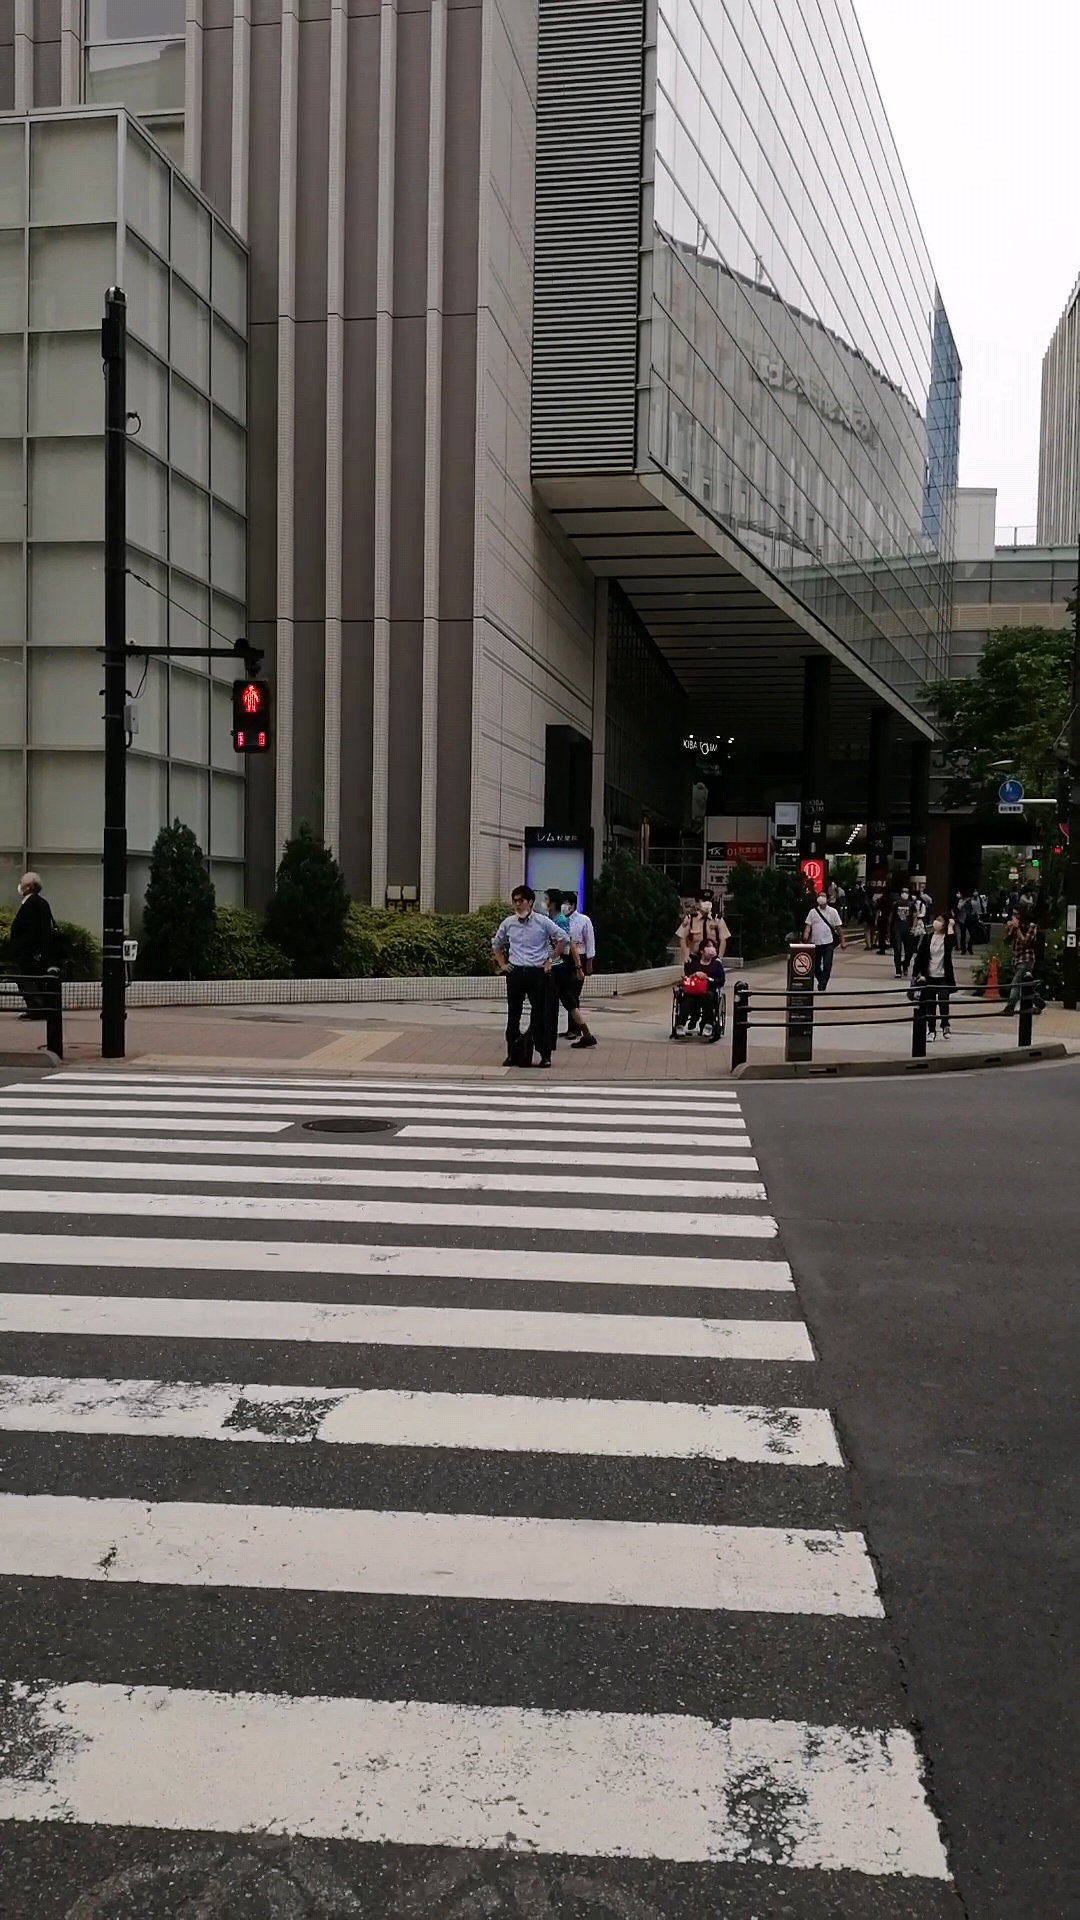red: (229, 678, 274, 754)
